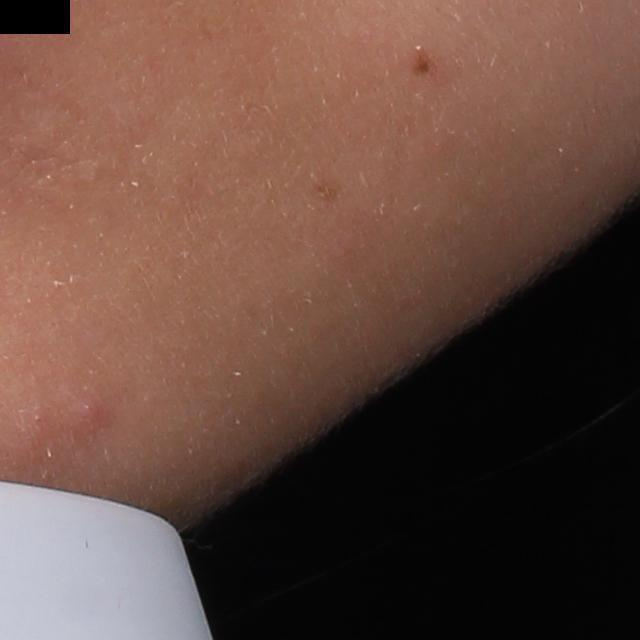nevus: (409, 54, 436, 79)
